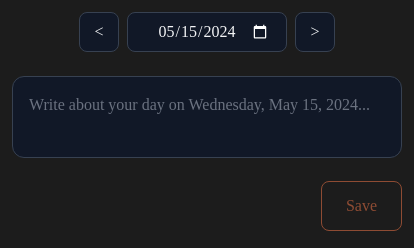
Test: JournalComponent date navigation › arrows change the selected date
Expected: the date field named "Select journal date" holds "2024-05-15", [127,12,287,52]
Click the button named "Previous day" at [99, 32], box [79,12,119,52]
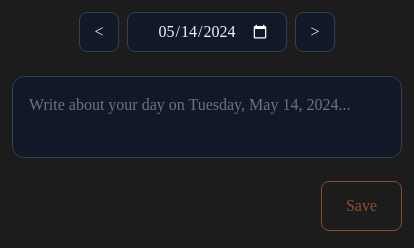
Now the date field named "Select journal date" holds "2024-05-14", box [127,12,287,52]
Click the button named "Next day" at [315, 32], box [295,12,335,52]
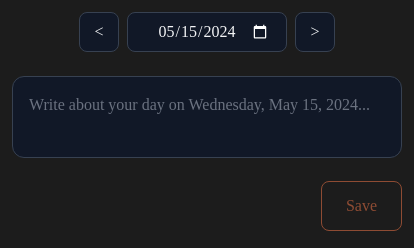
Click the button named "Next day" at [315, 32], box [295,12,335,52]
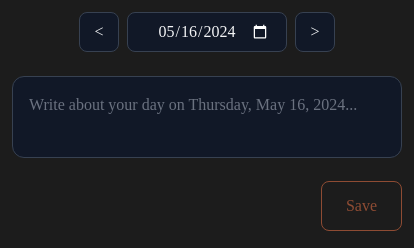
Now the date field named "Select journal date" holds "2024-05-16", box [127,12,287,52]
